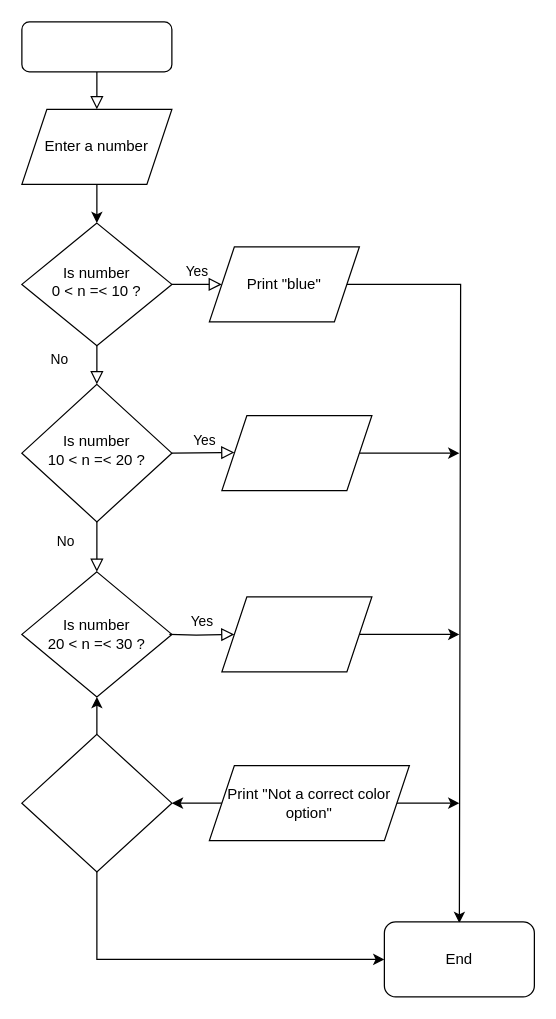
The diagram is 556 pixels wide and 1019 high, and some of its shapes have lost their labels. Here are the shapes that lost their labels. From the top down, the centre of each, then its label:
the point at 96,46: Begin
the point at 296,452: Print "red"
the point at 296,634: Print "green"
the point at 96,802: Is 0 > n > 30?
